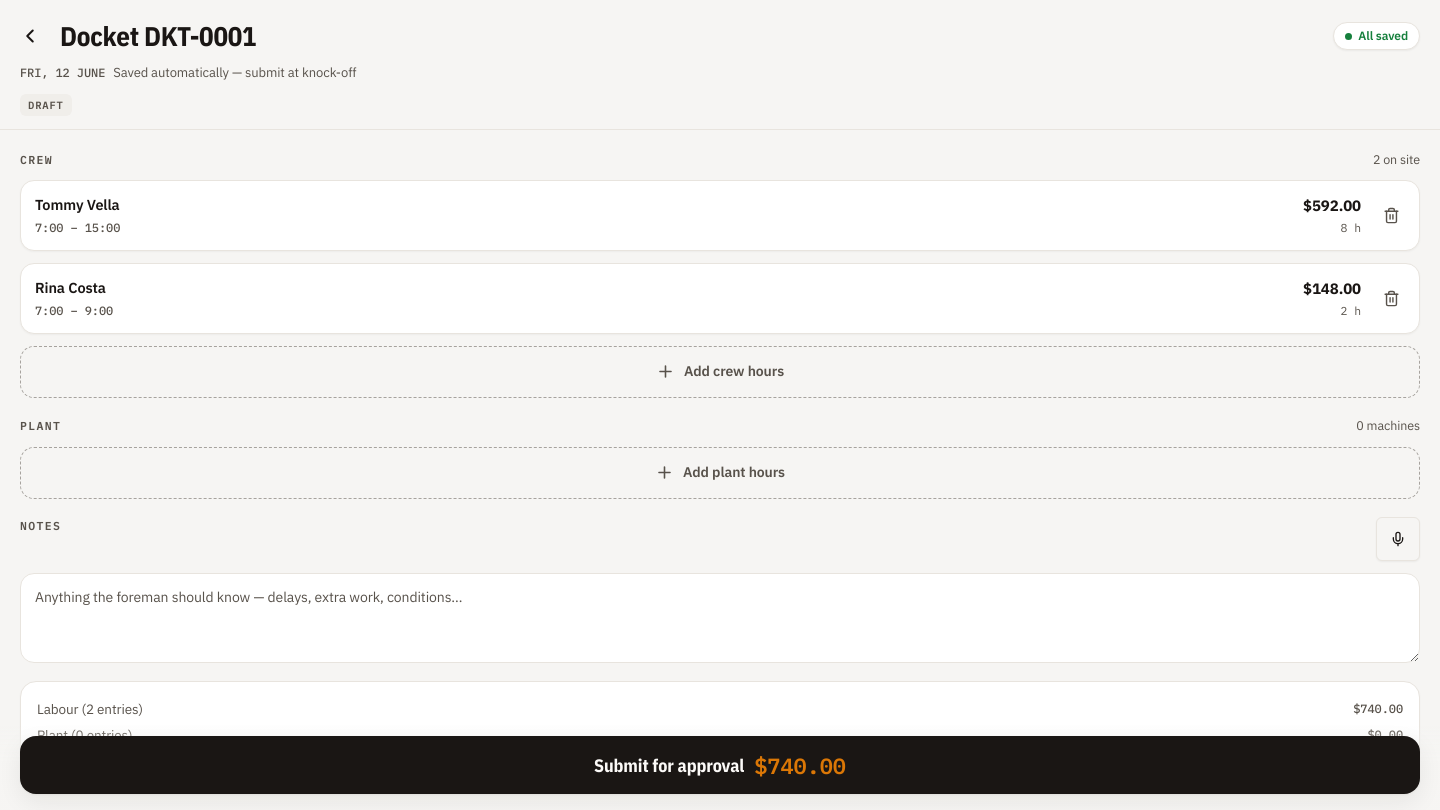
Scenario: subbie shell DocketScreen › entry delete refreshes the grand total from runningTotal.cost
Click the button named "Remove Tommy Vella": [1391, 216] box [1373,198,1409,234]
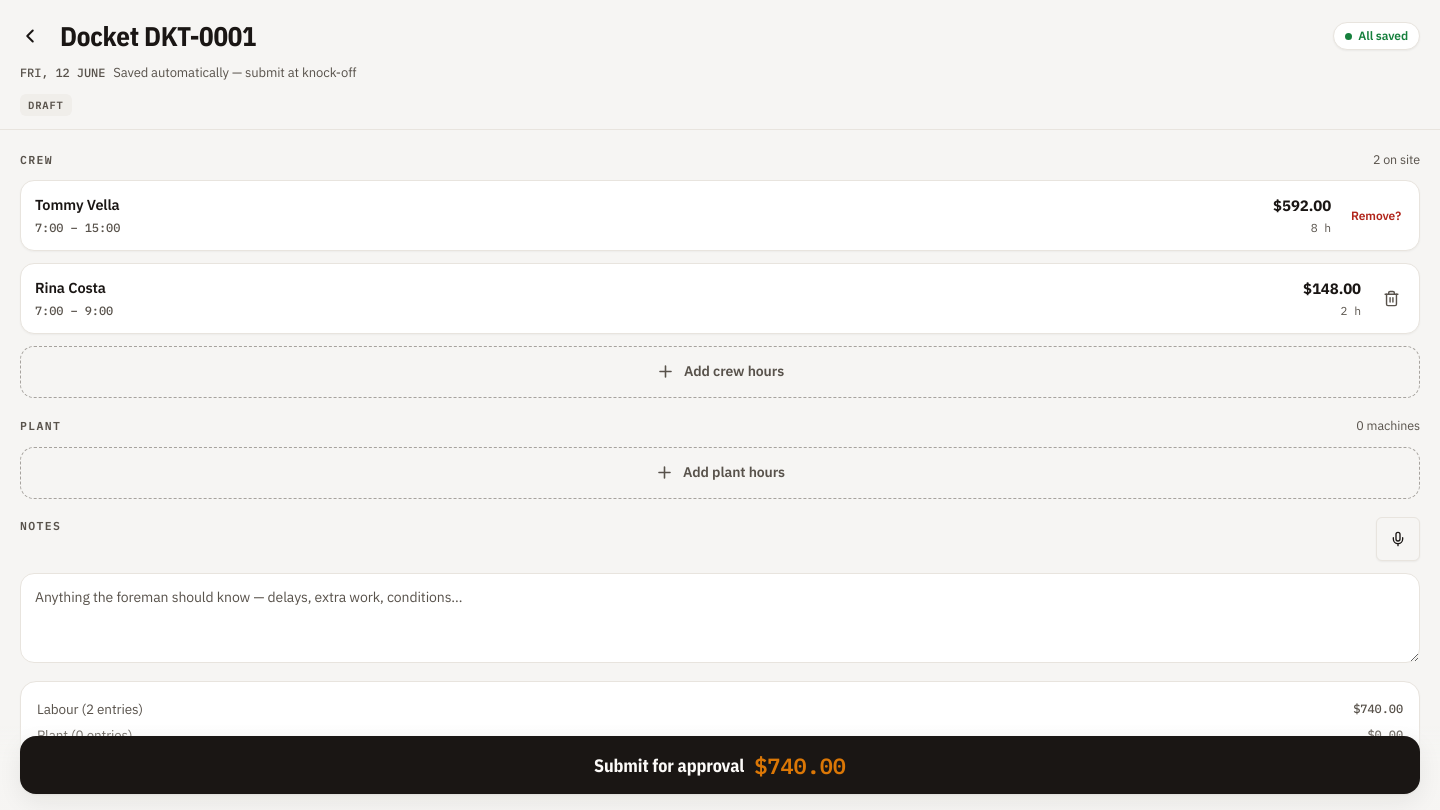
Click the button with aria-label "Remove Tommy Vella": [1376, 216] box [1343,198,1409,234]
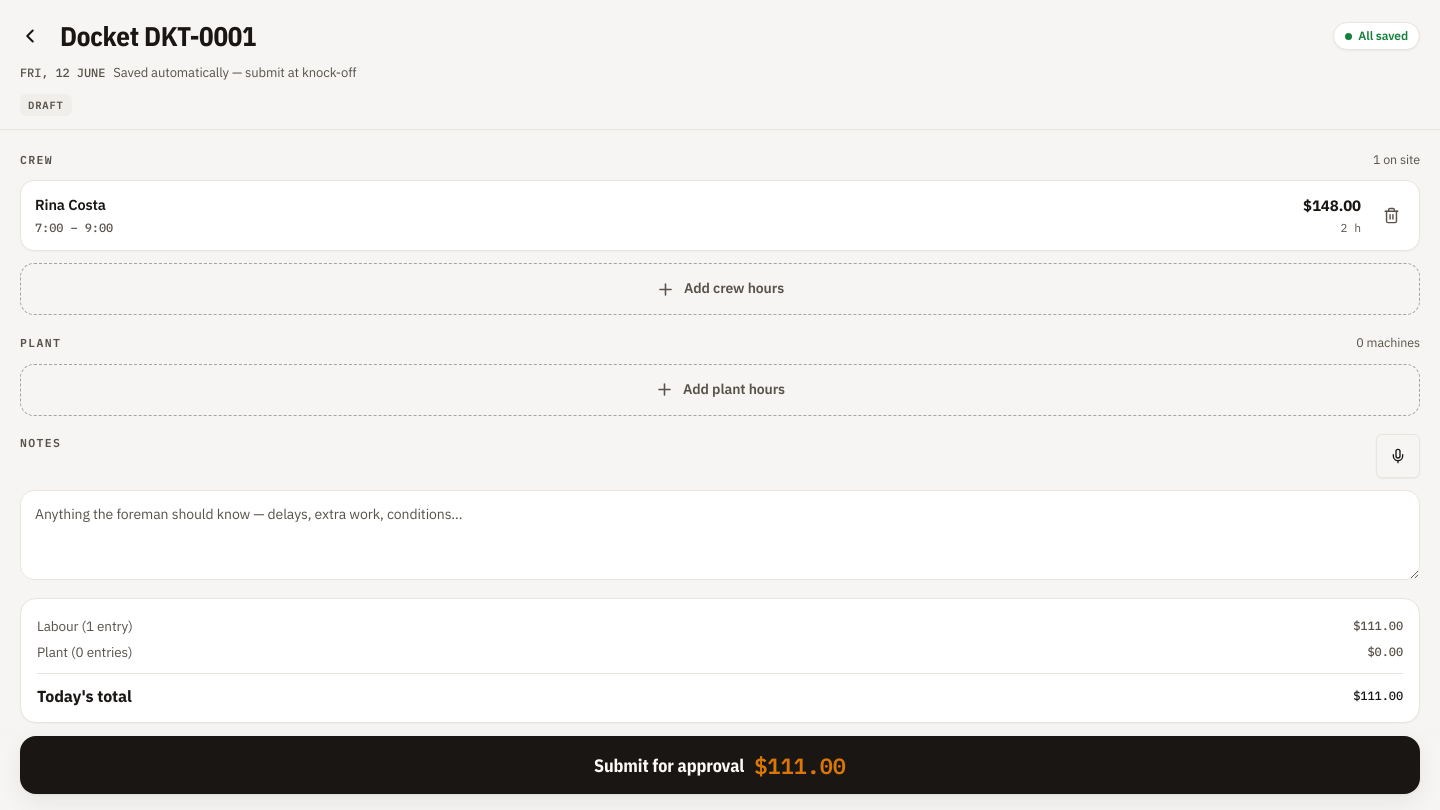
Expected: the text "$111.00" in the row of "Today's total" is shown, [1353,688,1403,703]
